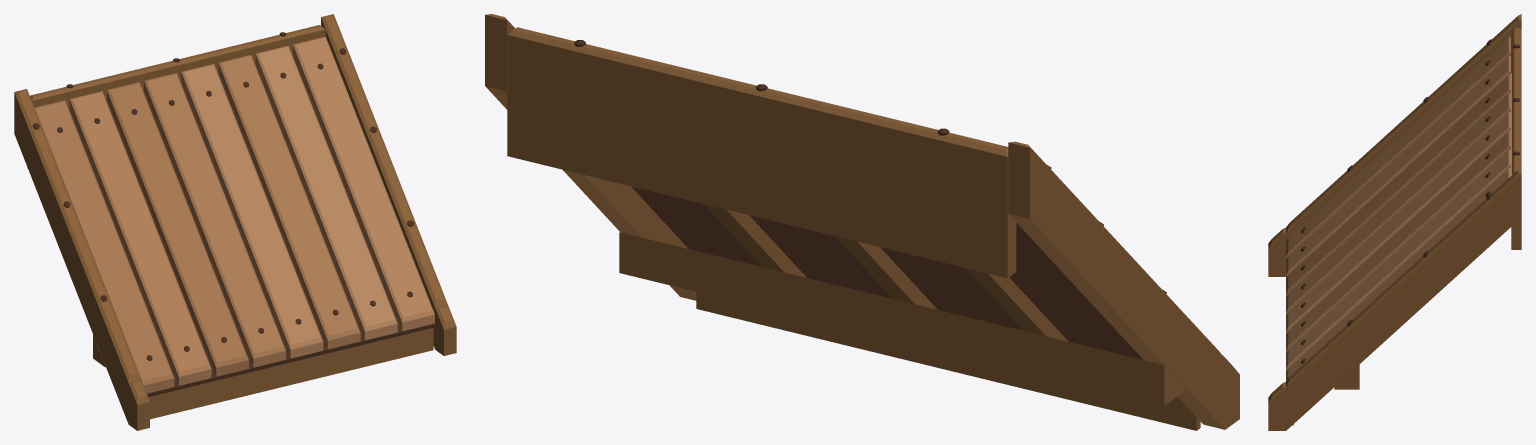
The model's file is survival-roof-assembly-module-20c655.glb.
3 renders of one model, left to right at view 1: azimuth 30°, elevation 25°; view 2: azimuth 150°, elevation 25°; view 3: azimuth 270°, elevation 25°, orthographic. The views are drawn at different scales.
Parts seen in each view (by area): view 1: roof; view 2: roof; view 3: roof.
Boxes of the visible parts, x1,y1,x2,y2 form: roof: (14, 14, 456, 430); roof: (485, 14, 1239, 430); roof: (1268, 14, 1521, 430).
Size of the model in its own units: 3 by 2.25 by 2.
